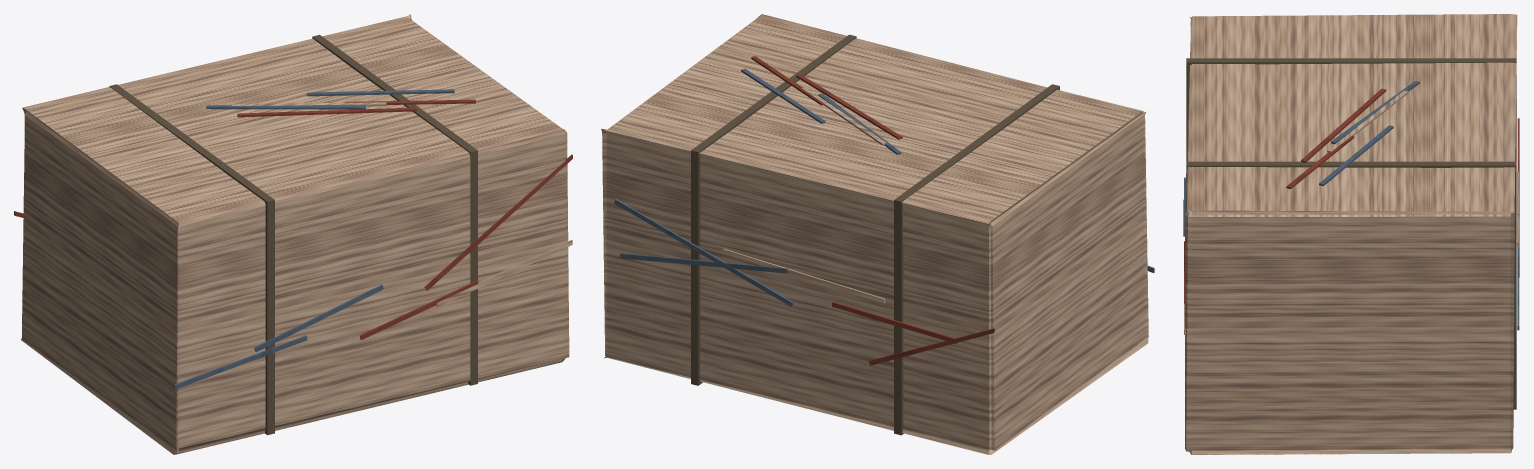
File: bale_thread.glb
3 renders of one model, left to right at view 1: azimuth 30°, elevation 25°; view 2: azimuth 150°, elevation 25°; view 3: azimuth 270°, elevation 25°, orthographic. The views are drawn at different scales.
Parts seen in each view (by area): view 1: BaleThread; view 2: BaleThread; view 3: BaleThread.
Boxes of the visible parts, x1,y1,x2,y2 form: BaleThread: [14, 14, 572, 454]; BaleThread: [601, 14, 1154, 454]; BaleThread: [1183, 14, 1519, 454].
Size of the model in its own units: 1.31 by 0.7483 by 0.92.
Materials: 4 (3 with a texture image).
